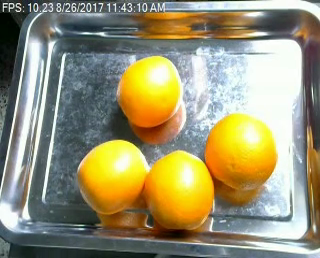Orange: (205, 112, 279, 190), (144, 148, 213, 229), (76, 139, 148, 214), (115, 54, 180, 127)
